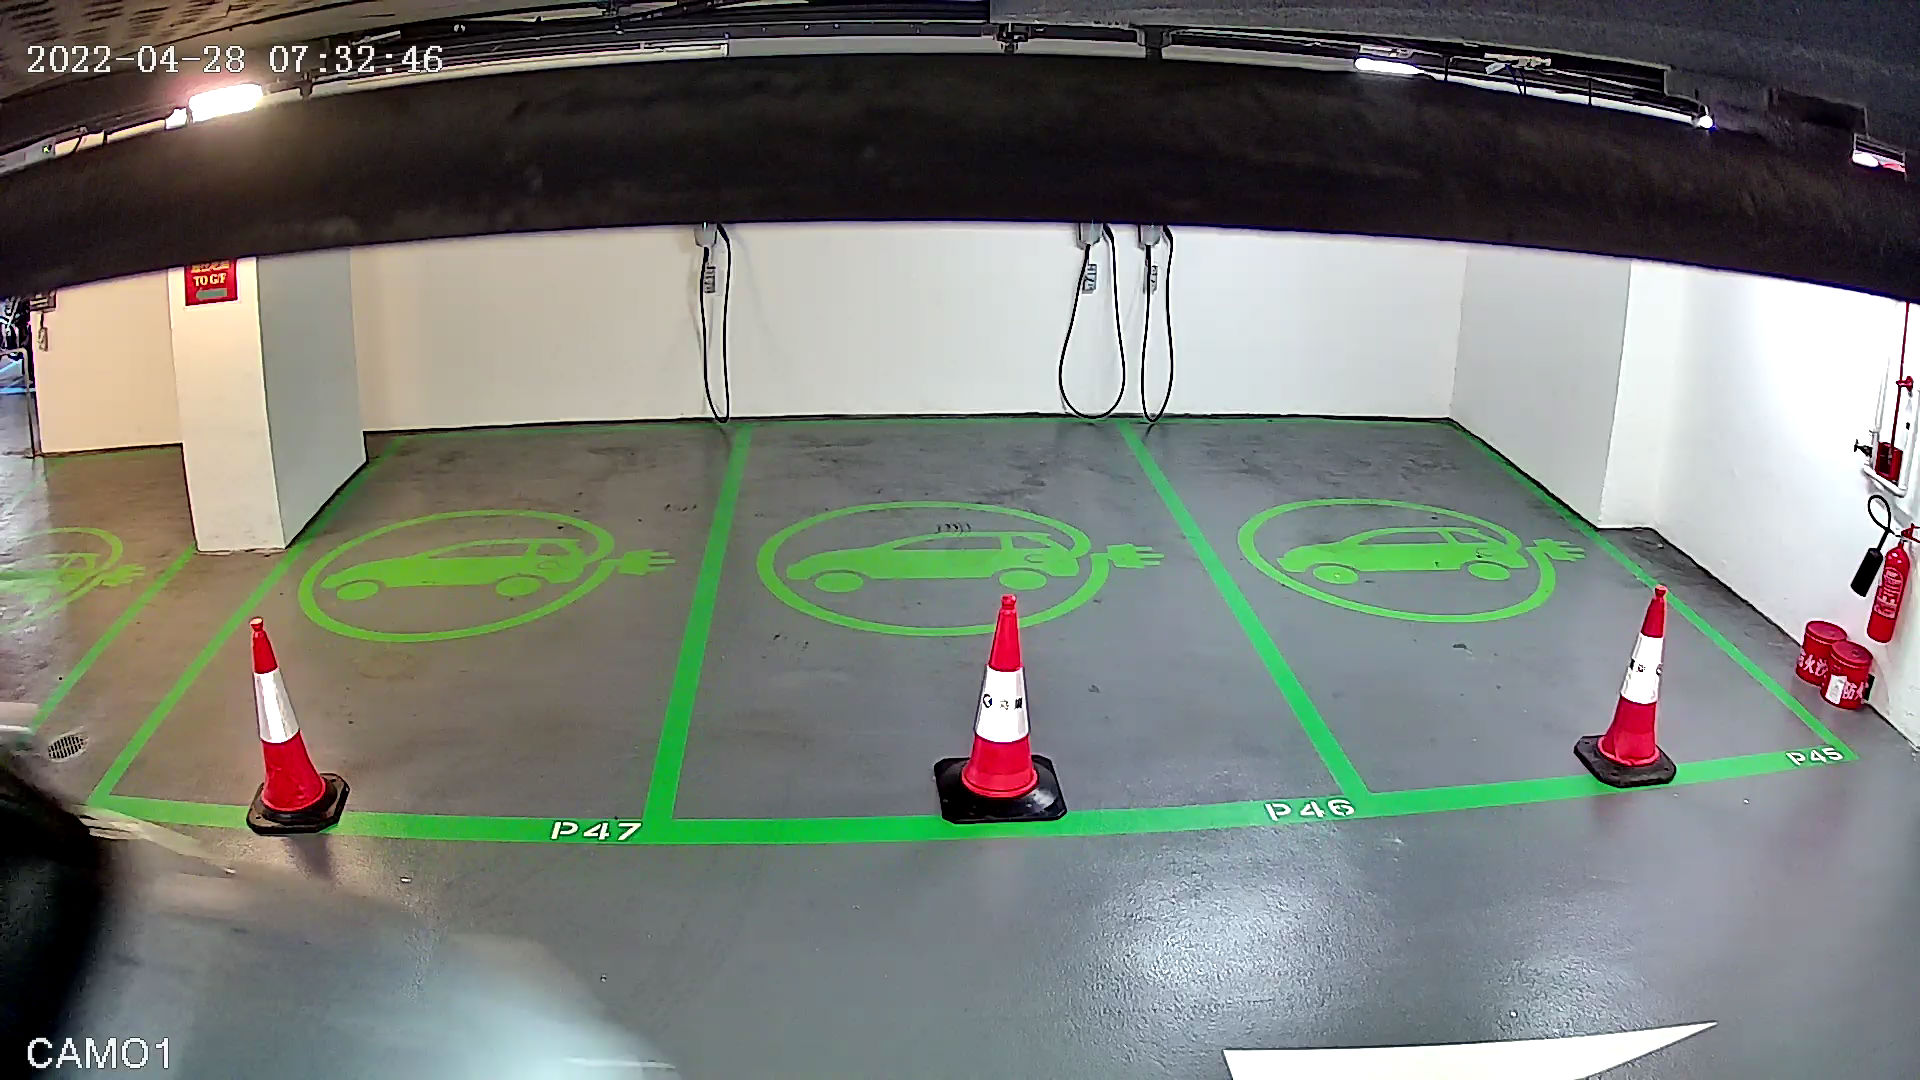space: (618, 342, 1387, 886), (1102, 359, 1882, 824), (86, 353, 756, 894)
